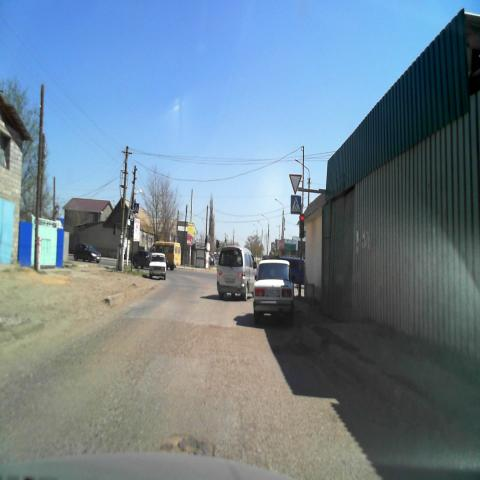2_4: (289, 174, 302, 194)
